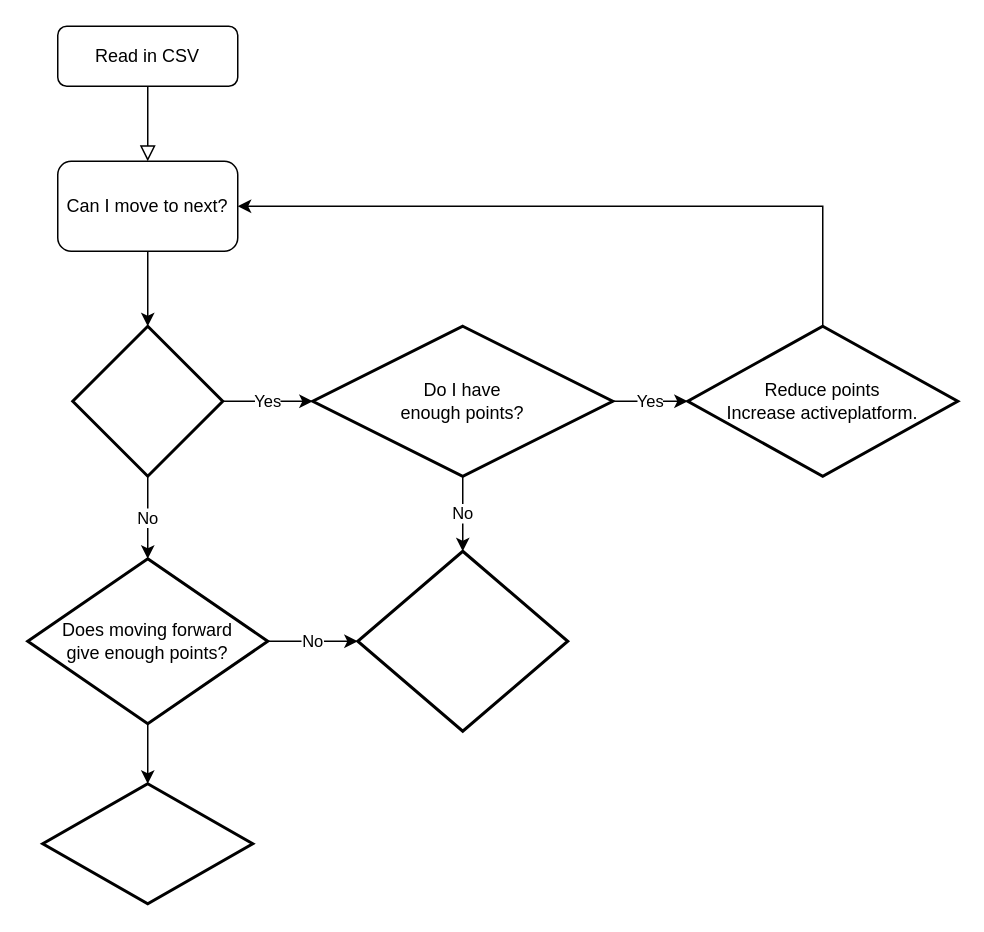
This 984x932 diagram has some shape labels left out. Each missing label, with the centre of its shape:
Go back one step: pixel 462 640
Is platform locked?: pixel 147 400
Move forward one step: pixel 147 843
